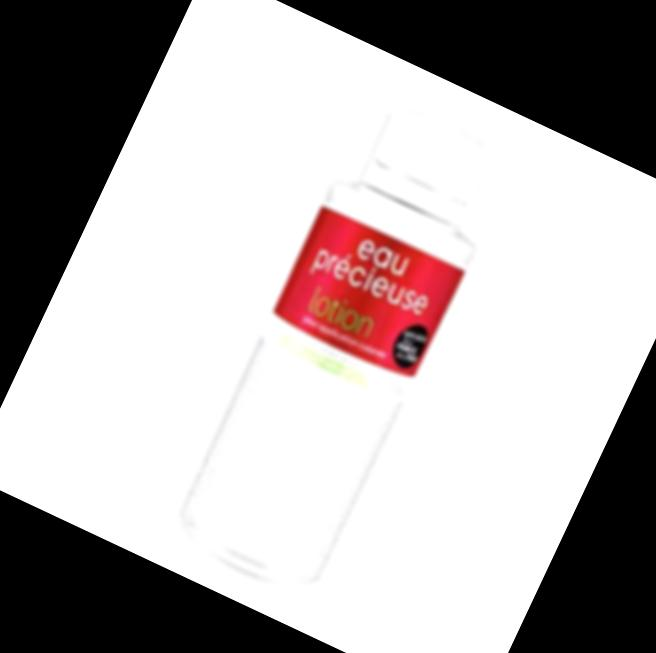cosmetic: (173, 91, 517, 584)
